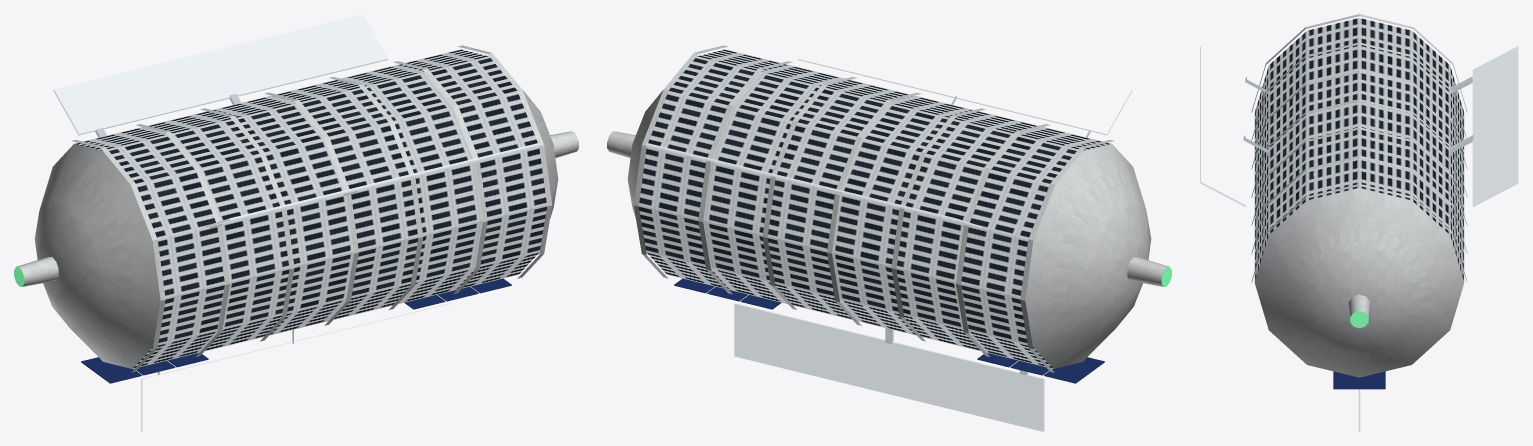
Rendered from orbital_spindle_village.glb.
3 renders of one model, left to right at view 1: azimuth 30°, elevation 25°; view 2: azimuth 150°, elevation 25°; view 3: azimuth 270°, elevation 25°, orthographic. The views are drawn at different scales.
Parts seen in each view (by area): view 1: orbital_spindle_village_LOD0; view 2: orbital_spindle_village_LOD0; view 3: orbital_spindle_village_LOD0.
Boxes of the visible parts, x1,y1,x2,y2 form: orbital_spindle_village_LOD0: (14, 14, 578, 431); orbital_spindle_village_LOD0: (607, 45, 1171, 431); orbital_spindle_village_LOD0: (1200, 14, 1518, 431).
Size of what is drawn, in the model's own units: 66 by 33.36 by 36.48.
3 materials, 3 textured.
